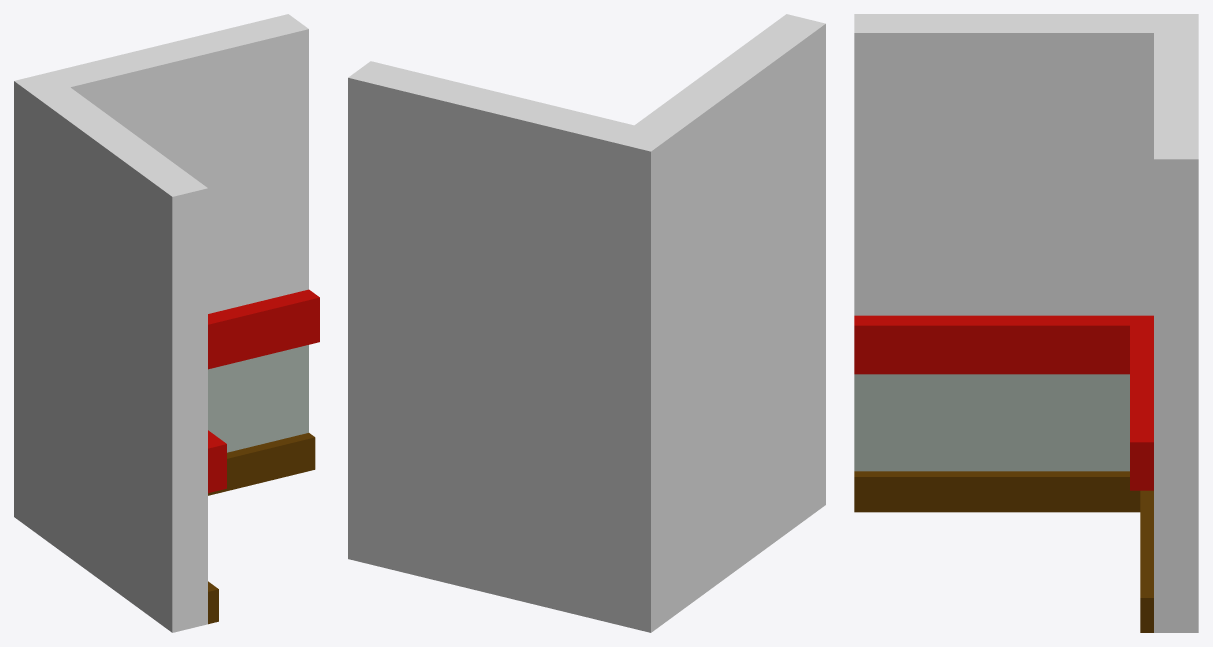
The model's file is H_Wall_Corner_Reception.fbx.
3 views of the same model, side by side, from view 1: azimuth 30°, elevation 25°; view 2: azimuth 150°, elevation 25°; view 3: azimuth 270°, elevation 25° (orthographic). The views are drawn at different scales.
Visible parts, largest first — view 1: H_Wall_Corner_Reception; view 2: H_Wall_Corner_Reception; view 3: H_Wall_Corner_Reception.
Boxes of the visible parts, x1,y1,x2,y2 form: H_Wall_Corner_Reception: (14, 14, 319, 632); H_Wall_Corner_Reception: (348, 14, 825, 632); H_Wall_Corner_Reception: (854, 14, 1198, 632).
Bounding box in the file's own units: 1000 × 1000 × 1518.
